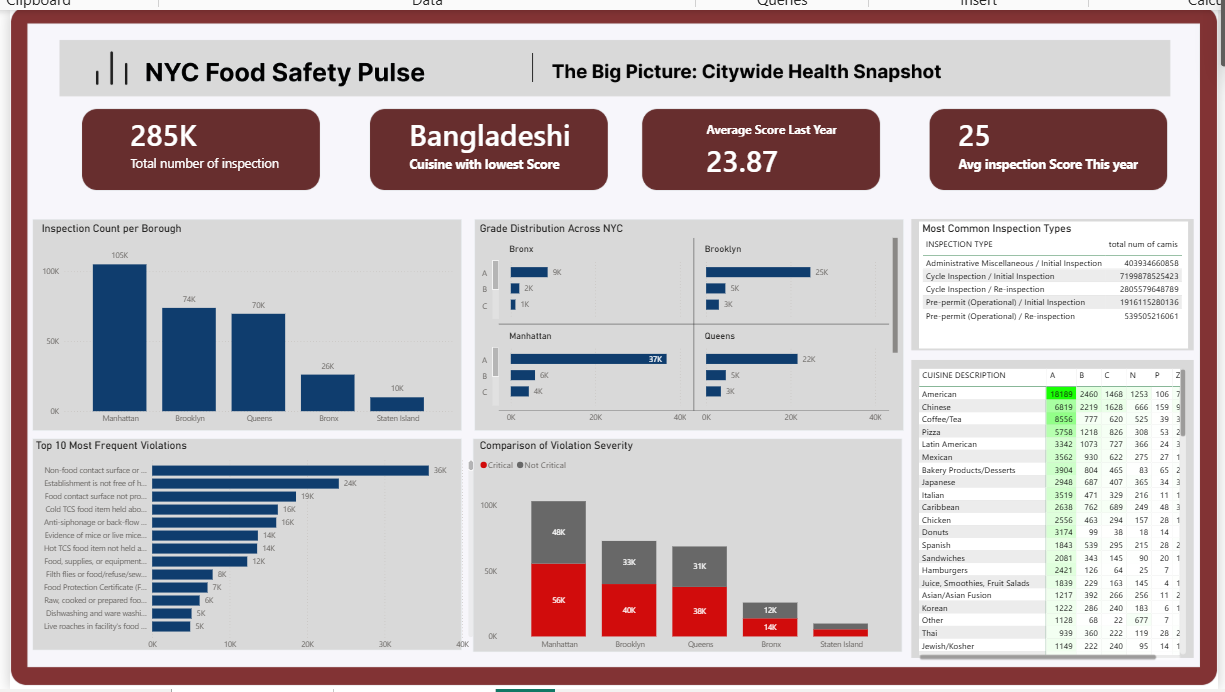

What the dashboard file says about the page in this screenshot:
{"tool":"powerbi","page":{"name":"Dashboard 1","canvas":[1920,1080],"ordinal":0},"visuals":[{"type":"cardVisual","fields":{"Data":["DOHMH_NYC_Restaurant_Inspection.Total number of inspection"]},"box":[162.6,123.5,339.6,175],"z":0},{"type":"clusteredColumnChart","title":"Inspection Count per Borough","fields":{"Category":["DOHMH_NYC_Restaurant_Inspection.LOCATION"],"Y":["DOHMH_NYC_Restaurant_Inspection.Total number of inspection"]},"box":[45.3,337.6,664.8,331.4],"z":1000},{"type":"tableEx","title":"Most Common Inspection Types","fields":{"Values":["DOHMH_NYC_Restaurant_Inspection.INSPECTION TYPE","DOHMH_NYC_Restaurant_Inspection.total num of camis"]},"box":[1447,337.6,428.1,201.7],"z":2000},{"type":"columnChart","title":"Comparison of Violation Severity","fields":{"Category":["DOHMH_NYC_Restaurant_Inspection.LOCATION"],"Series":["DOHMH_NYC_Restaurant_Inspection.CRITICAL FLAG"],"Y":["CountNonNull(DOHMH_NYC_Restaurant_Inspection.INSPECTION TYPE)"]},"box":[741,681.3,675.1,343.7],"z":3000},{"type":"pivotTable","fields":{"Values":["CountNonNull(DOHMH_NYC_Restaurant_Inspection.CAMIS)"],"Rows":["DOHMH_NYC_Restaurant_Inspection.CUISINE DESCRIPTION"],"Columns":["DOHMH_NYC_Restaurant_Inspection.GRADE"]},"box":[1440.8,566,434.3,473.4],"z":4000},{"type":"cardVisual","fields":{"Data":["DOHMH_NYC_Restaurant_Inspection.Cuisine with Highest Score"]},"box":[607.1,121.4,398.6,181.4],"z":5000},{"type":"cardVisual","fields":{"Data":["DOHMH_NYC_Restaurant_Inspection.Average Score Last Year"]},"box":[1077.5,140,267.5,165],"z":6000},{"type":"clusteredBarChart","title":"Grade Distribution Across NYC","fields":{"Category":["DOHMH_NYC_Restaurant_Inspection.GRADE"],"Y":["CountNonNull(DOHMH_NYC_Restaurant_Inspection.LOCATION)"],"Rows":["DOHMH_NYC_Restaurant_Inspection.LOCATION"]},"box":[741,337.6,675.1,331.4],"z":7000},{"type":"clusteredBarChart","title":"Top 10 Most Frequent Violations","fields":{"Y":["CountNonNull(DOHMH_NYC_Restaurant_Inspection.INSPECTION TYPE)"],"Category":["DOHMH_NYC_Restaurant_Inspection.VIOLATION DESCRIPTION"]},"box":[35,681.3,706,343.7],"z":8000},{"type":"cardVisual","fields":{"Data":["DOHMH_NYC_Restaurant_Inspection.Avg Score"]},"box":[1480,132.5,357.5,157.5],"z":9000}]}

Visuals, with their boxes on the page's 1920x1080 design canvas (x1, y1, x2, y2). These are canvas units, not pixel positions in the 1225x692 screenshot, which may show the page scaled, cropped or inside an application window:
cardVisual - DOHMH_NYC_Restaurant_Inspection.Total number of inspection: <bbox>163, 124, 502, 298</bbox>
"Inspection Count per Borough" clusteredColumnChart: <bbox>45, 338, 710, 669</bbox>
"Most Common Inspection Types" tableEx: <bbox>1447, 338, 1875, 539</bbox>
"Comparison of Violation Severity" columnChart: <bbox>741, 681, 1416, 1025</bbox>
pivotTable - CountNonNull(DOHMH_NYC_Restaurant_Inspection.CAMIS) x DOHMH_NYC_Restaurant_Inspection.CUISINE DESCRIPTION: <bbox>1441, 566, 1875, 1039</bbox>
cardVisual - DOHMH_NYC_Restaurant_Inspection.Cuisine with Highest Score: <bbox>607, 121, 1006, 303</bbox>
cardVisual - DOHMH_NYC_Restaurant_Inspection.Average Score Last Year: <bbox>1078, 140, 1345, 305</bbox>
"Grade Distribution Across NYC" clusteredBarChart: <bbox>741, 338, 1416, 669</bbox>
"Top 10 Most Frequent Violations" clusteredBarChart: <bbox>35, 681, 741, 1025</bbox>
cardVisual - DOHMH_NYC_Restaurant_Inspection.Avg Score: <bbox>1480, 132, 1838, 290</bbox>
